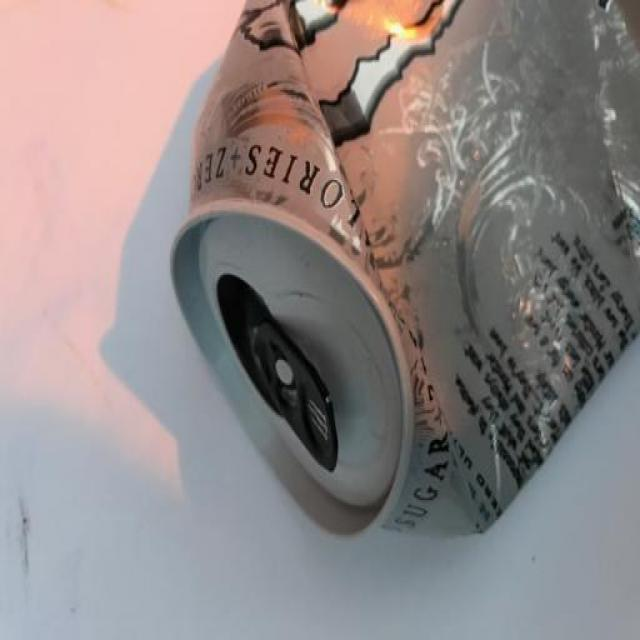metel: (168, 2, 640, 546)
